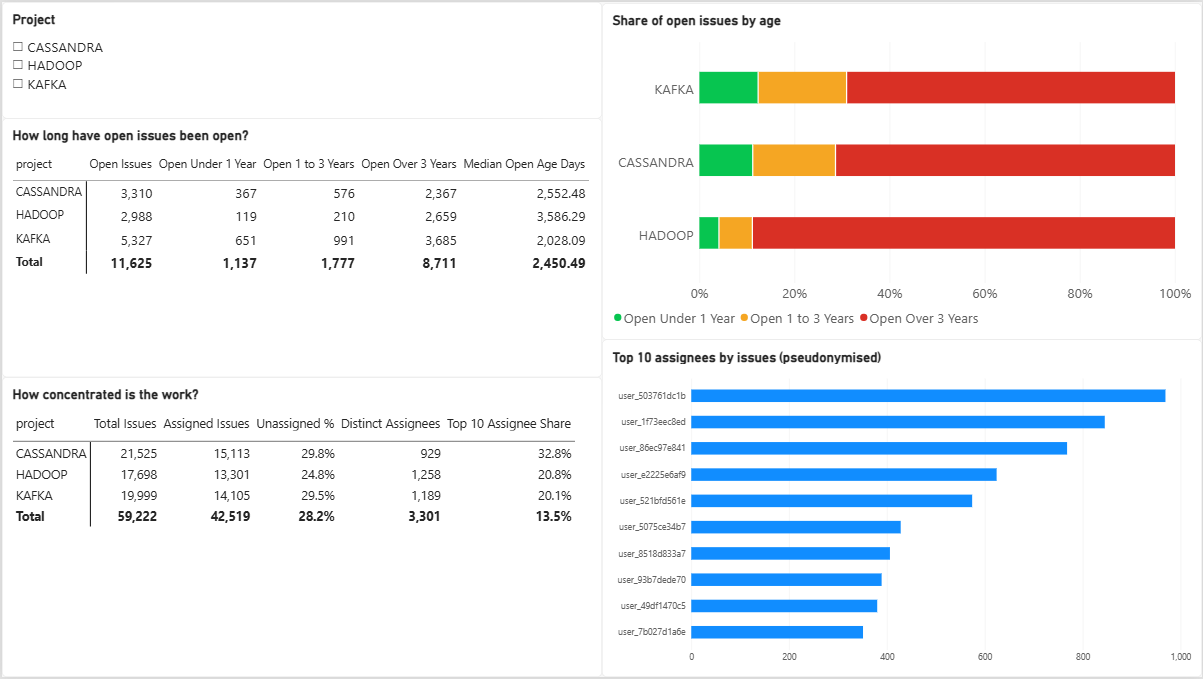

The page's visual inventory and layout, read from the dashboard file:
{"tool":"powerbi","page":{"name":"Backlog and People","canvas":[1920,1080],"ordinal":2},"visuals":[{"type":"listSlicer","title":"Project","fields":{"Values":["dim_project.project"]},"box":[0,0,960,186],"z":0},{"type":"pivotTable","title":"How concentrated is the work?","fields":{"Rows":["dim_project.project"],"Values":["fact_issues.Total Issues","fact_issues.Assigned Issues","fact_issues.Unassigned %","fact_issues.Distinct Assignees","fact_issues.Top 10 Assignee Share"]},"box":[0,600,960,480],"z":1000},{"type":"pivotTable","title":"How long have open issues been open?","fields":{"Rows":["dim_project.project"],"Values":["fact_issues.Open Issues","fact_issues.Open Under 1 Year","fact_issues.Open 1 to 3 Years","fact_issues.Open Over 3 Years","fact_issues.Median Open Age Days"]},"box":[0,186,960,414],"z":2000},{"type":"hundredPercentStackedBarChart","title":"Share of open issues by age","fields":{"Category":["dim_project.project"],"Y":["fact_issues.Open Under 1 Year","fact_issues.Open 1 to 3 Years","fact_issues.Open Over 3 Years"]},"box":[960,2,960,538],"z":3000},{"type":"barChart","title":"Top 10 assignees by issues (pseudonymised)","fields":{"Category":["fact_issues.assignee_id"],"Y":["fact_issues.Total Issues"]},"box":[960,540,960,540],"z":4000}]}

Visuals, with their boxes in screenshot pixels (x1, y1, x2, y2), scaled from the page's 1920x1080 canvas onto the 1203x679 screenshot:
"Project" listSlicer: 0/0/602/117
"How concentrated is the work?" pivotTable: 0/377/602/678
"How long have open issues been open?" pivotTable: 0/117/602/377
"Share of open issues by age" hundredPercentStackedBarChart: 602/1/1202/340
"Top 10 assignees by issues (pseudonymised)" barChart: 602/340/1202/678
